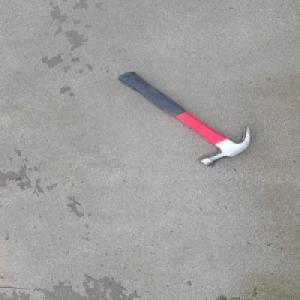Hammer: (117, 70, 252, 166)
